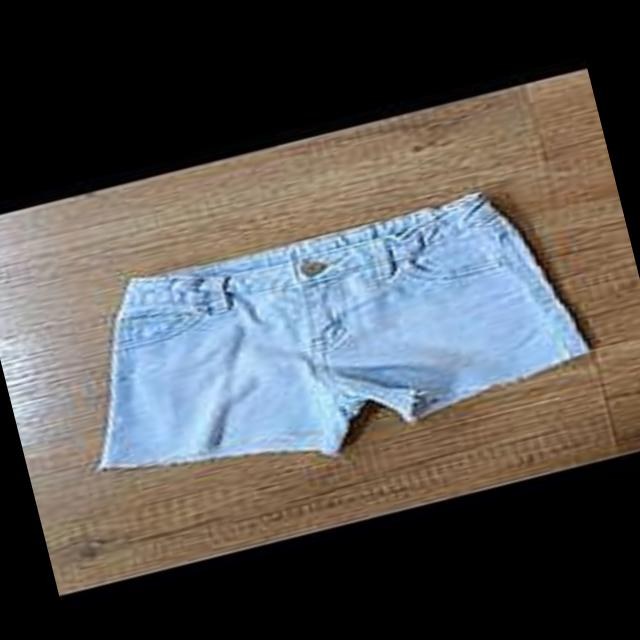SHORT: (39, 153, 640, 516)
